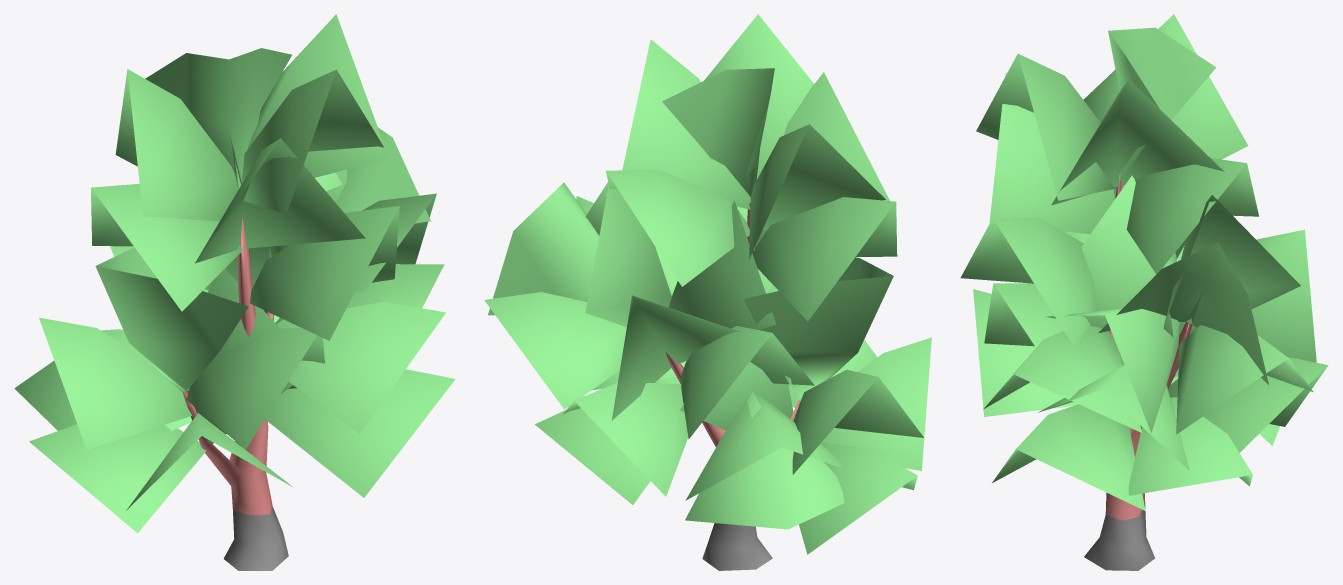
Rendered from Oren_elf_tree15.gltf.
3 renders of one model, left to right at view 1: azimuth 30°, elevation 25°; view 2: azimuth 150°, elevation 25°; view 3: azimuth 270°, elevation 25°, orthographic. The views are drawn at different scales.
Parts seen in each view (by area): view 1: Oren_elf_tree15; view 2: Oren_elf_tree15; view 3: Oren_elf_tree15.
Boxes of the visible parts, bbox=[...] form: Oren_elf_tree15: bbox=[14, 14, 455, 570]; Oren_elf_tree15: bbox=[484, 14, 931, 570]; Oren_elf_tree15: bbox=[960, 14, 1328, 570].
Bounding box in the file's own units: 6.97 × 8.87 × 5.7.
